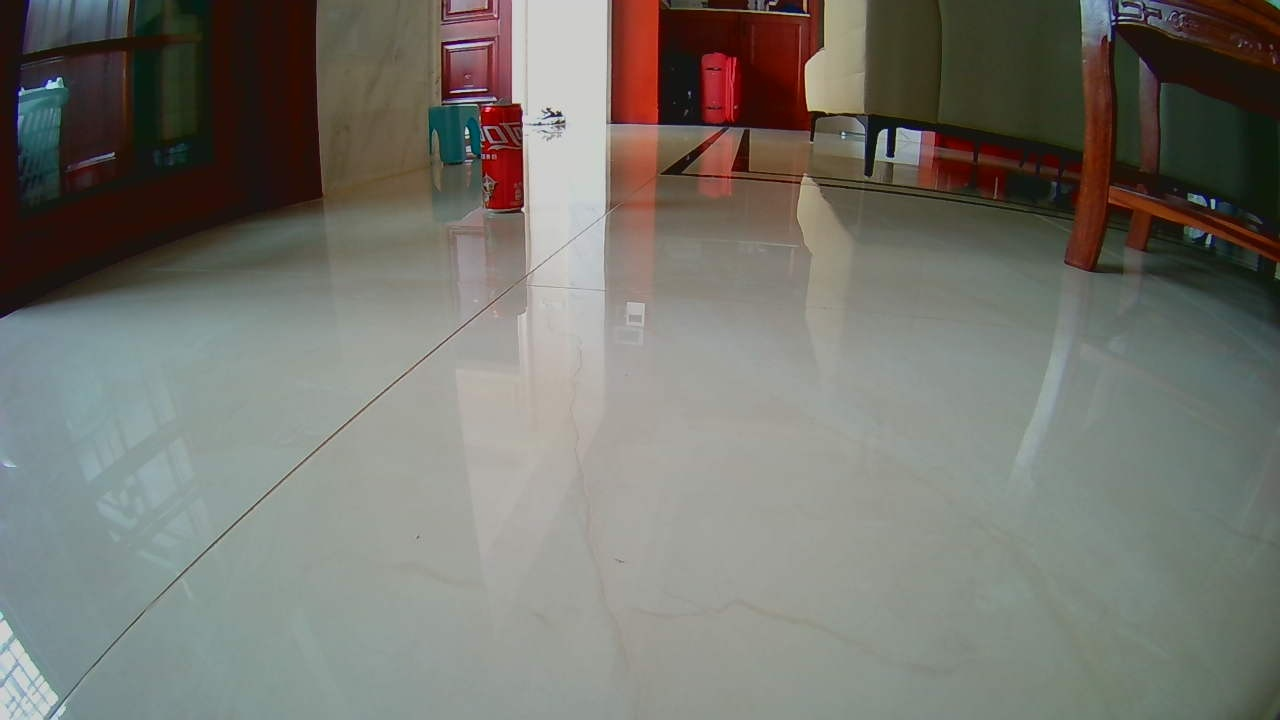cola: (478, 101, 531, 216)
